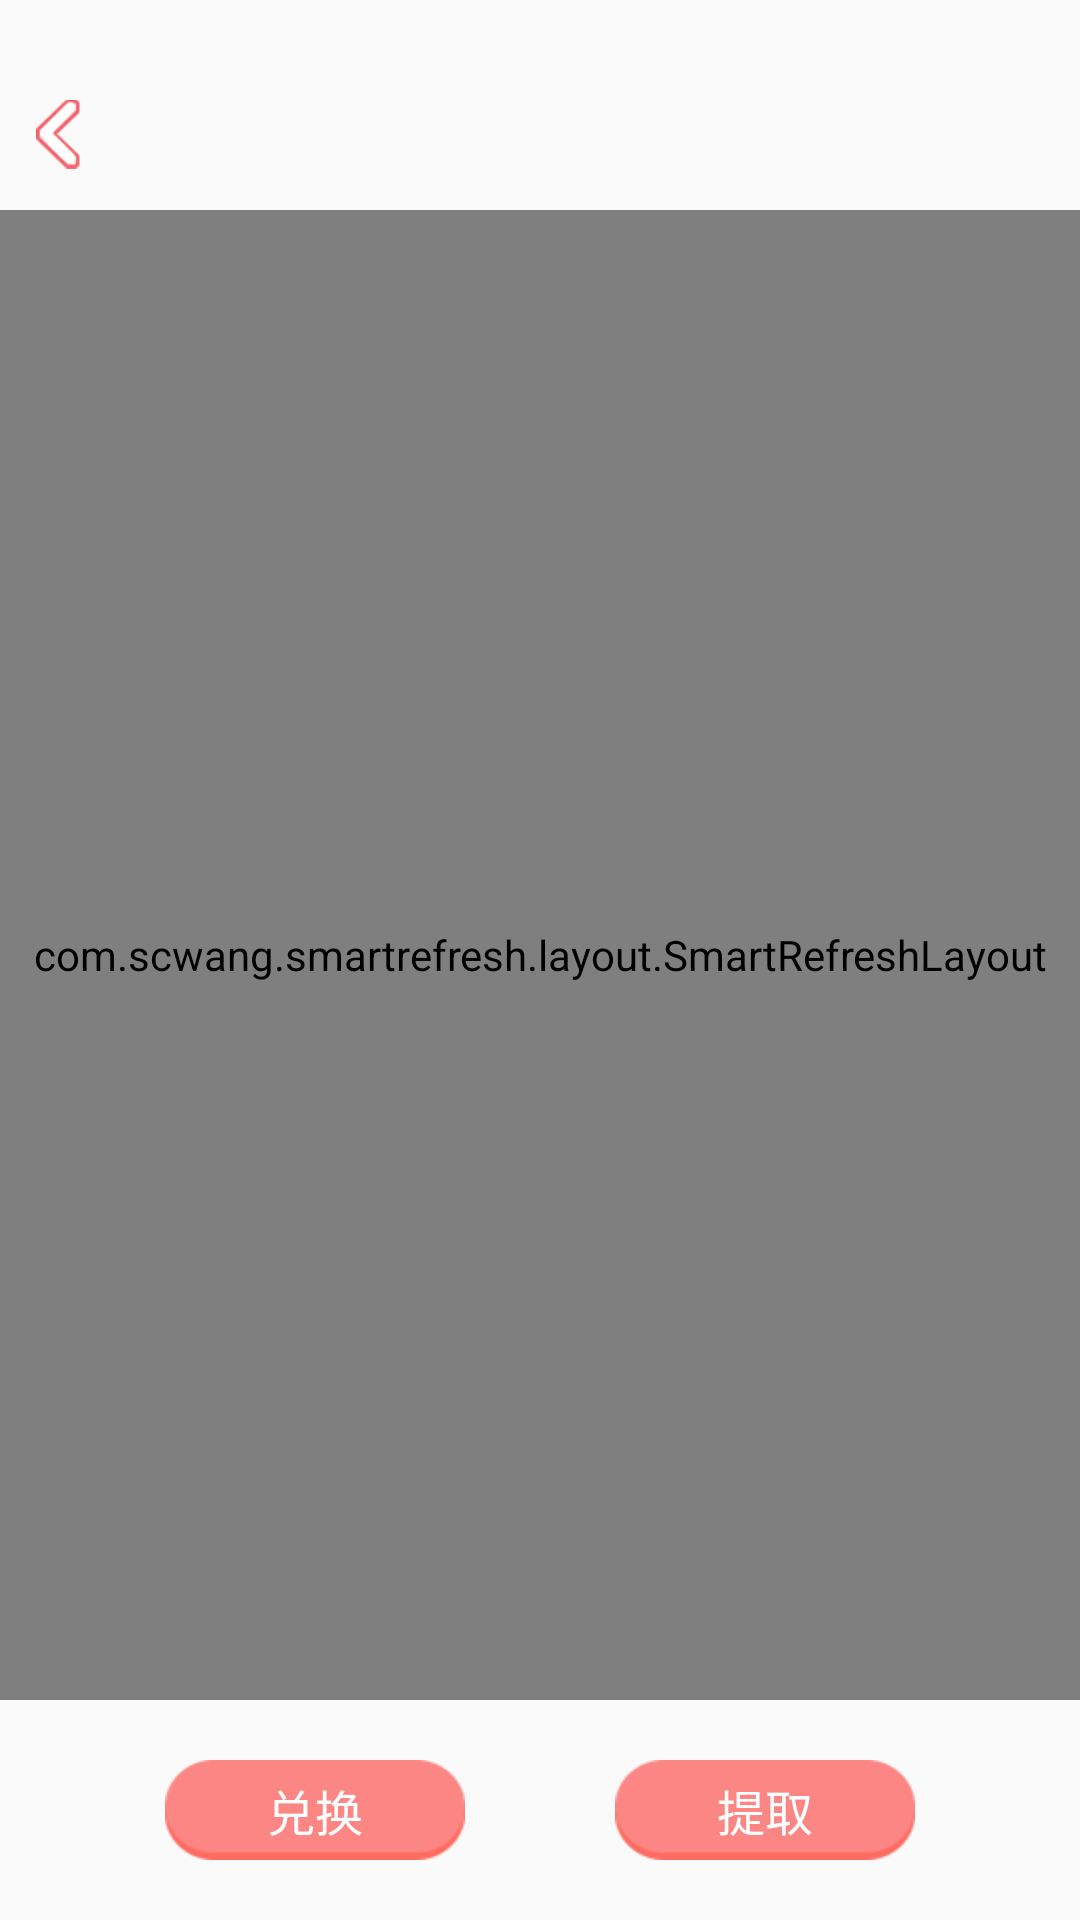

Icons on this 1080 x 1920 Android screen, each with its box as bbox(x1, y1, x2, y2):
player back: bbox(36, 100, 80, 169)
